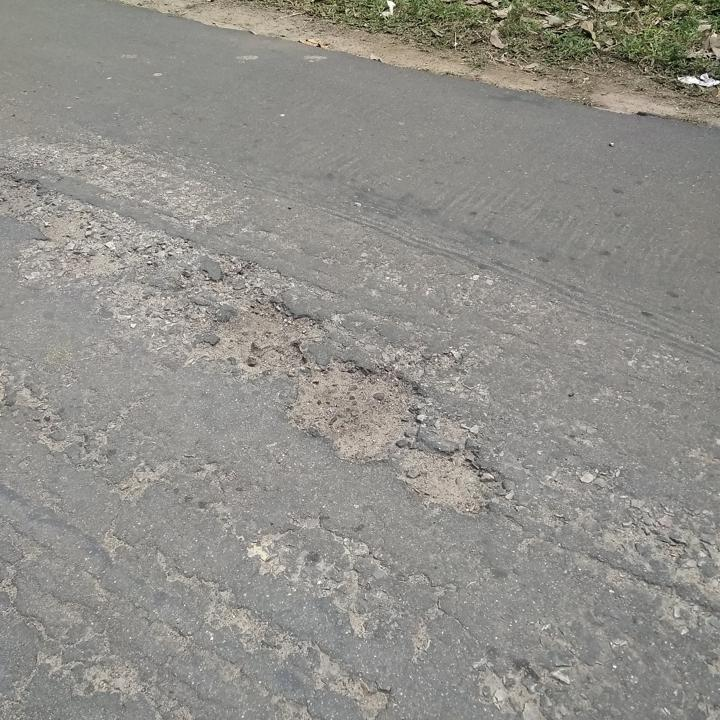pothole: (0, 168, 141, 279), (283, 359, 427, 464), (207, 293, 325, 380), (400, 444, 504, 523)
